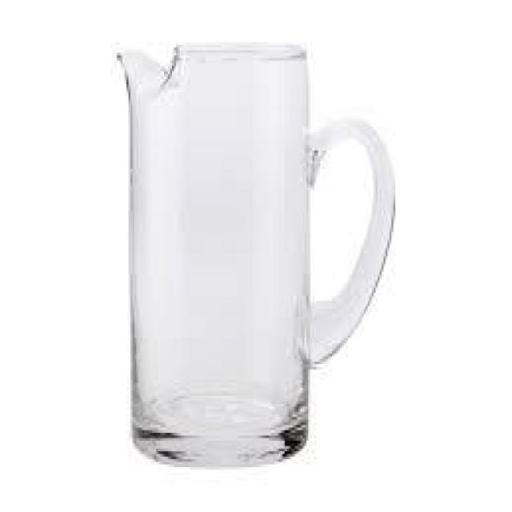glass: (102, 17, 410, 485)
